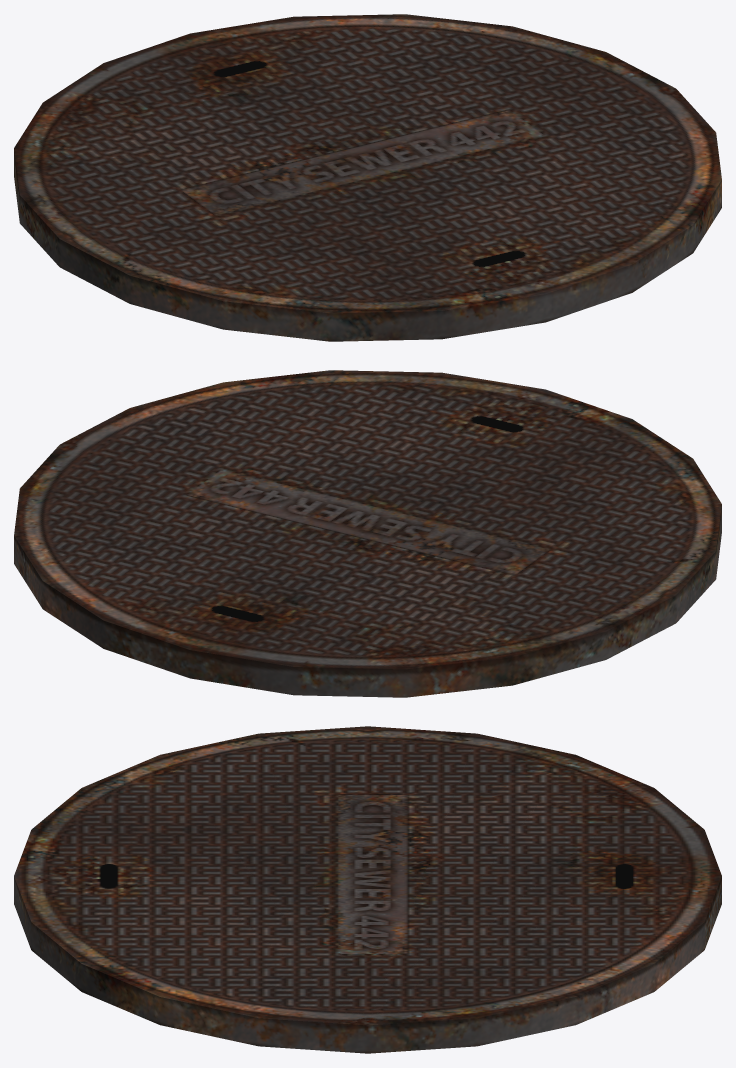
Rendered from Sewer.fbx.
3 renders of one model, top to bottom at view 1: azimuth 30°, elevation 25°; view 2: azimuth 150°, elevation 25°; view 3: azimuth 270°, elevation 25°, orthographic.
Visible parts, largest first — view 1: pCylinder2; view 2: pCylinder2; view 3: pCylinder2.
Part boxes in pixels (bbox=[...]): pCylinder2: bbox=[14, 14, 721, 341]; pCylinder2: bbox=[14, 370, 721, 697]; pCylinder2: bbox=[14, 726, 721, 1053].
Size of the model in its own units: 1.22 by 0.0535 by 1.22.
